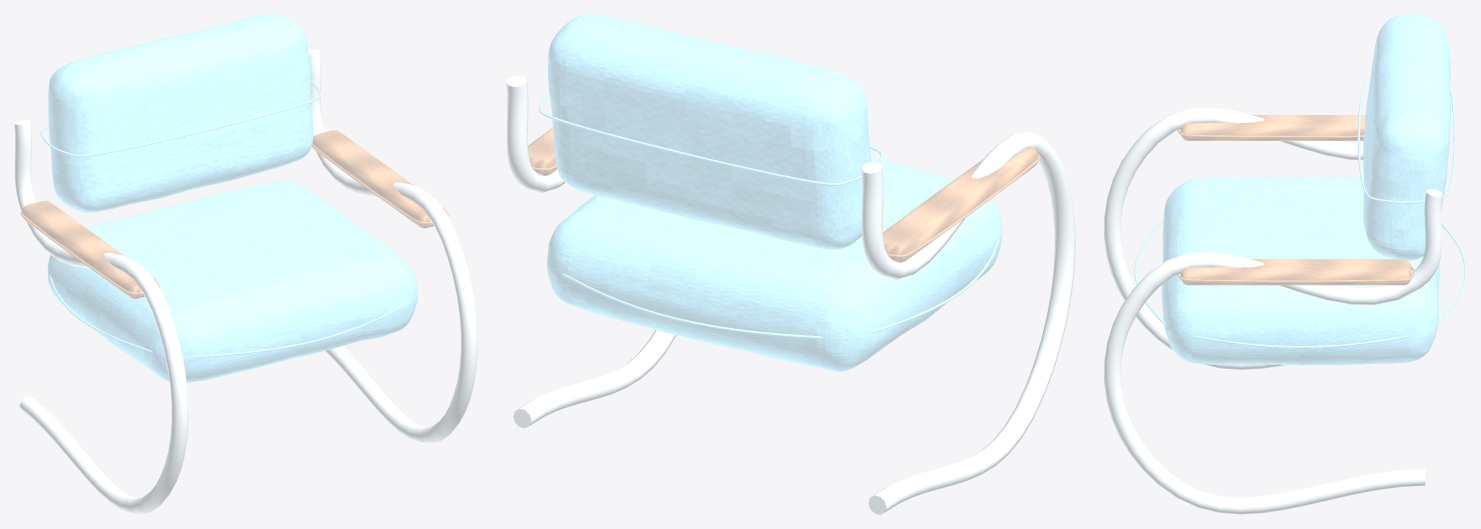
The model's file is ref04_03.glb.
3 views of the same model, side by side, from view 1: azimuth 30°, elevation 25°; view 2: azimuth 150°, elevation 25°; view 3: azimuth 270°, elevation 25° (orthographic). The views are drawn at different scales.
Visible parts, largest first — view 1: ref04_03; view 2: ref04_03; view 3: ref04_03.
Boxes of the visible parts, x1,y1,x2,y2 form: ref04_03: (14, 14, 477, 514); ref04_03: (506, 14, 1075, 514); ref04_03: (1104, 14, 1466, 514).
Bounding box in the file's own units: 0.8366 × 0.902 × 0.7853.
Materials: 3 (2 with a texture image).
